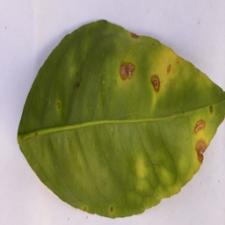Canker: (102, 36, 216, 168)
